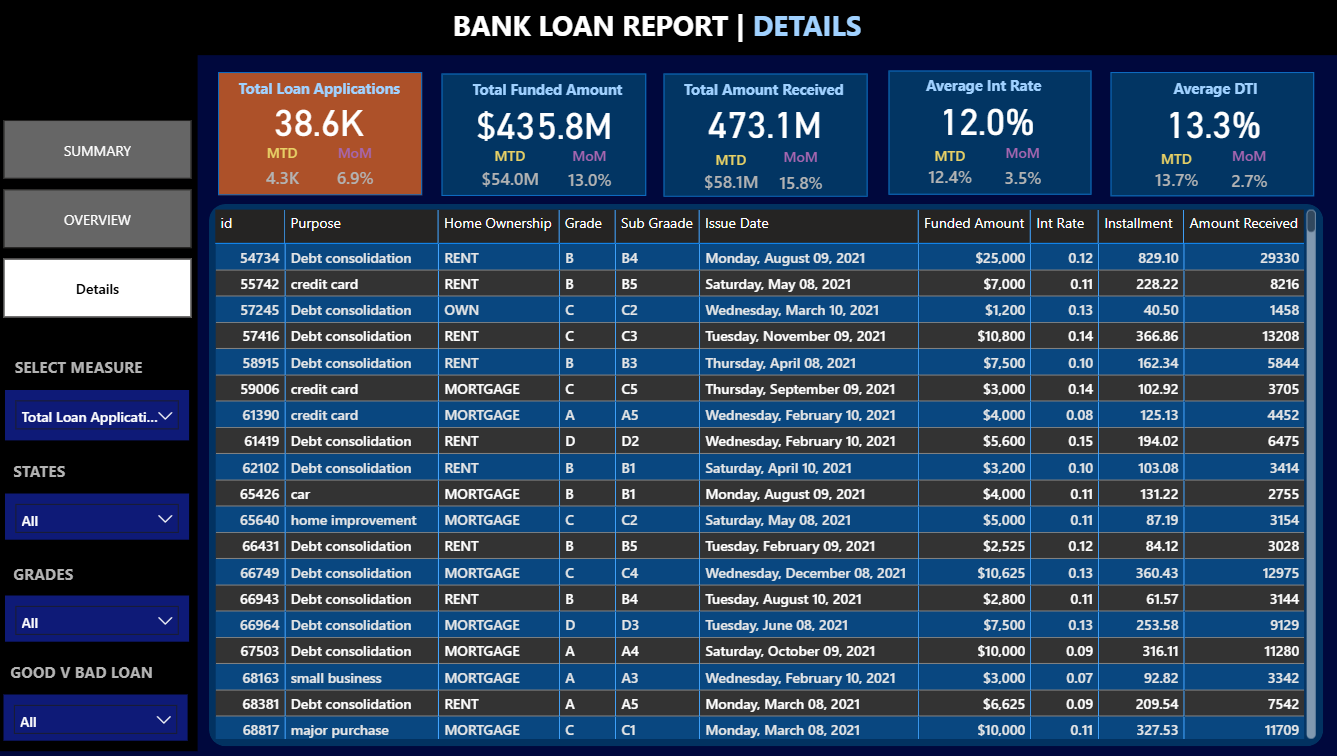

What the dashboard file says about the page in this screenshot:
{"tool":"powerbi","page":{"name":"Details","canvas":[1280,720],"ordinal":2},"visuals":[{"type":"shape","box":[0,52,192,664],"z":0},{"type":"shape","box":[0,0,1279.7,52.5],"z":1000},{"type":"textbox","box":[430.6,0,487.4,49.7],"z":2000},{"type":"shape","box":[849.8,67.6,193.3,118.3],"z":3000,"group":"g4"},{"type":"shape","box":[1061.5,68.5,194,118.4],"z":3000,"group":"g5"},{"type":"group","id":"g1","title":"Group 1","box":[202.9,69.1,210,120],"z":3000},{"type":"shape","box":[211,69.1,194.4,117.5],"z":3000,"group":"g1"},{"type":"shape","box":[423.7,69.7,195,116.7],"z":3000,"group":"g6"},{"type":"shape","box":[635,69.7,194.4,117.5],"z":3000,"group":"g2"},{"type":"group","id":"g2","title":"Group 1","box":[626.9,69.7,208,122],"z":4000},{"type":"card","fields":{"Values":["bank_loan_data.Total Funded Amount"]},"box":[426.6,91.1,189,50.4],"z":4000,"group":"g7"},{"type":"card","fields":{"Values":["bank_loan_data.Average Interest Rate"]},"box":[838.7,91.1,209.1,42.8],"z":4000,"group":"g4"},{"type":"card","fields":{"Values":["bank_loan_data.Total Loan Application"]},"box":[202.9,93.4,208.6,42.5],"z":4000,"group":"g1"},{"type":"card","fields":{"Values":["bank_loan_data.Avg DTI"]},"box":[1053.9,93.7,209.1,42.8],"z":4000,"group":"g5"},{"type":"card","fields":{"Values":["bank_loan_data.Total Amount Received"]},"box":[626.9,94,208.6,42.5],"z":4000,"group":"g2"},{"type":"textbox","box":[861.4,65.9,178.9,32.8],"z":5000,"group":"g4"},{"type":"textbox","box":[1097,68.9,121.5,32.4],"z":5000,"group":"g5"},{"type":"textbox","box":[225.2,69.1,180.3,32.4],"z":5000,"group":"g1"},{"type":"group","id":"g3","title":"Group 2","box":[426.6,69.7,188.3,118.3],"z":5000,"group":"g6"},{"type":"textbox","box":[447.4,69.7,165.5,32],"z":5000,"group":"g7"},{"type":"textbox","box":[649.2,69.7,180.3,32.4],"z":5000,"group":"g2"},{"type":"shape","box":[203.5,194.7,1061.2,516.4],"z":5000},{"type":"group","id":"g4","title":"Group 1","box":[838.7,65.9,209.1,123.5],"z":6000},{"type":"card","title":"MTD","fields":{"Values":["bank_loan_data.MTD Loan Applications"]},"box":[246.3,136.1,53.6,52],"z":6000,"group":"g1"},{"type":"card","title":"MTD","fields":{"Values":["bank_loan_data.MTD Funded Amount"]},"box":[451.8,137.7,73.1,47.9],"z":6000,"group":"g7"},{"type":"card","title":"MTD","fields":{"Values":["bank_loan_data.MTD Avg Int Rate"]},"box":[876.5,139,65.5,45.4],"z":6000,"group":"g4"},{"type":"card","title":"MTD","fields":{"Values":["bank_loan_data.MTD Avg DTI"]},"box":[1091.7,141.6,65.5,45.4],"z":6000,"group":"g5"},{"type":"card","title":"MTD","fields":{"Values":["bank_loan_data.MTD Total Amount Received"]},"box":[667.2,142.8,65.5,45.4],"z":6000,"group":"g2"},{"type":"group","id":"g5","title":"Group 1","box":[1053.9,68.5,208.3,125],"z":7000},{"type":"card","title":"MoM","fields":{"Values":["bank_loan_data.MoM Loan Appliocations"]},"box":[314.8,136.1,54.8,52.7],"z":7000,"group":"g1"},{"type":"card","title":"MoM","fields":{"Values":["bank_loan_data.MoM Avg Int Rate"]},"box":[949.6,136.5,55.4,52.9],"z":7000,"group":"g4"},{"type":"card","title":"MoM","fields":{"Values":["bank_loan_data.MoM Total Funded Amount"]},"box":[527.4,137.7,73.1,50.4],"z":7000,"group":"g7"},{"type":"card","title":"MoM","fields":{"Values":["bank_loan_data.MoM Avg DTI"]},"box":[1164.8,139.1,55.4,52.9],"z":7000,"group":"g5"},{"type":"card","title":"MoM","fields":{"Values":["bank_loan_data.MoM Total Amount Received"]},"box":[737.8,140.3,55.4,52.9],"z":7000,"group":"g2"},{"type":"group","id":"g6","title":"Group 4","box":[423.7,69.7,196,118],"z":8000},{"type":"group","id":"g7","title":"Group 3","box":[426.6,69.7,189,118.4],"z":8001,"group":"g3"},{"type":"slicer","fields":{"Values":["bank_loan_data.address_state"]},"box":[8.8,470.4,175,43.8],"z":9000},{"type":"textbox","box":[10.9,433.2,83.1,37.2],"z":10000},{"type":"slicer","fields":{"Values":["bank_loan_data.grade"]},"box":[8.8,566.7,175,43.8],"z":11000},{"type":"textbox","box":[10.9,531.7,81,37.2],"z":12000},{"type":"slicer","fields":{"Values":["bank_loan_data.Good vs Bad Loan"]},"box":[6.6,660.8,175,43.8],"z":13000},{"type":"textbox","box":[8.8,623.6,170.7,37.2],"z":14000},{"type":"slicer","fields":{"Values":["Select Measure.Select Measure"]},"box":[8.8,372,175,48.1],"z":15000},{"type":"textbox","box":[13.1,334.8,137.8,37.2],"z":16000},{"type":"tableEx","fields":{"Values":["bank_loan_data.id","bank_loan_data.purpose","bank_loan_data.home_ownership","bank_loan_data.grade","bank_loan_data.sub_grade","bank_loan_data.issue_date","bank_loan_data.Total Funded Amount","Sum(bank_loan_data.int_rate)","Sum(bank_loan_data.installment)","bank_loan_data.Total Amount Received"]},"box":[203.5,194.7,1059,514.2],"z":17000},{"type":"pageNavigator","box":[6.6,113.8,179.4,188.2],"z":18000}]}

Visuals, with their boxes in screenshot pixels (x1, y1, x2, y2), scaled from the page's 1280x720 canvas onto the 1337x756 screenshot:
shape: {"left": 0, "top": 55, "right": 201, "bottom": 752}
shape: {"left": 0, "top": 0, "right": 1336, "bottom": 55}
textbox: {"left": 450, "top": 0, "right": 959, "bottom": 52}
shape: {"left": 888, "top": 71, "right": 1090, "bottom": 195}
shape: {"left": 1109, "top": 72, "right": 1311, "bottom": 196}
"Group 1" group: {"left": 212, "top": 73, "right": 431, "bottom": 199}
shape: {"left": 220, "top": 73, "right": 423, "bottom": 196}
shape: {"left": 443, "top": 73, "right": 646, "bottom": 196}
shape: {"left": 663, "top": 73, "right": 866, "bottom": 197}
"Group 1" group: {"left": 655, "top": 73, "right": 872, "bottom": 201}
card - bank_loan_data.Total Funded Amount: {"left": 446, "top": 96, "right": 643, "bottom": 149}
card - bank_loan_data.Average Interest Rate: {"left": 876, "top": 96, "right": 1094, "bottom": 141}
card - bank_loan_data.Total Loan Application: {"left": 212, "top": 98, "right": 430, "bottom": 143}
card - bank_loan_data.Avg DTI: {"left": 1101, "top": 98, "right": 1319, "bottom": 143}
card - bank_loan_data.Total Amount Received: {"left": 655, "top": 99, "right": 873, "bottom": 143}
textbox: {"left": 900, "top": 69, "right": 1087, "bottom": 104}
textbox: {"left": 1146, "top": 72, "right": 1273, "bottom": 106}
textbox: {"left": 235, "top": 73, "right": 424, "bottom": 107}
"Group 2" group: {"left": 446, "top": 73, "right": 642, "bottom": 197}
textbox: {"left": 467, "top": 73, "right": 640, "bottom": 107}
textbox: {"left": 678, "top": 73, "right": 866, "bottom": 107}
shape: {"left": 213, "top": 204, "right": 1321, "bottom": 747}
"Group 1" group: {"left": 876, "top": 69, "right": 1094, "bottom": 199}
"MTD" card: {"left": 257, "top": 143, "right": 313, "bottom": 198}
"MTD" card: {"left": 472, "top": 145, "right": 548, "bottom": 195}
"MTD" card: {"left": 916, "top": 146, "right": 984, "bottom": 194}
"MTD" card: {"left": 1140, "top": 149, "right": 1209, "bottom": 196}
"MTD" card: {"left": 697, "top": 150, "right": 765, "bottom": 198}
"Group 1" group: {"left": 1101, "top": 72, "right": 1318, "bottom": 203}
"MoM" card: {"left": 329, "top": 143, "right": 386, "bottom": 198}
"MoM" card: {"left": 992, "top": 143, "right": 1050, "bottom": 199}
"MoM" card: {"left": 551, "top": 145, "right": 627, "bottom": 198}
"MoM" card: {"left": 1217, "top": 146, "right": 1275, "bottom": 202}
"MoM" card: {"left": 771, "top": 147, "right": 829, "bottom": 203}
"Group 4" group: {"left": 443, "top": 73, "right": 647, "bottom": 197}
"Group 3" group: {"left": 446, "top": 73, "right": 643, "bottom": 198}
slicer - bank_loan_data.address_state: {"left": 9, "top": 494, "right": 192, "bottom": 540}
textbox: {"left": 11, "top": 455, "right": 98, "bottom": 494}
slicer - bank_loan_data.grade: {"left": 9, "top": 595, "right": 192, "bottom": 641}
textbox: {"left": 11, "top": 558, "right": 96, "bottom": 597}
slicer - bank_loan_data.Good vs Bad Loan: {"left": 7, "top": 694, "right": 190, "bottom": 740}
textbox: {"left": 9, "top": 655, "right": 187, "bottom": 694}
slicer - Select Measure.Select Measure: {"left": 9, "top": 391, "right": 192, "bottom": 441}
textbox: {"left": 14, "top": 352, "right": 158, "bottom": 391}
tableEx - bank_loan_data.id x bank_loan_data.purpose: {"left": 213, "top": 204, "right": 1319, "bottom": 744}
pageNavigator: {"left": 7, "top": 119, "right": 194, "bottom": 317}
